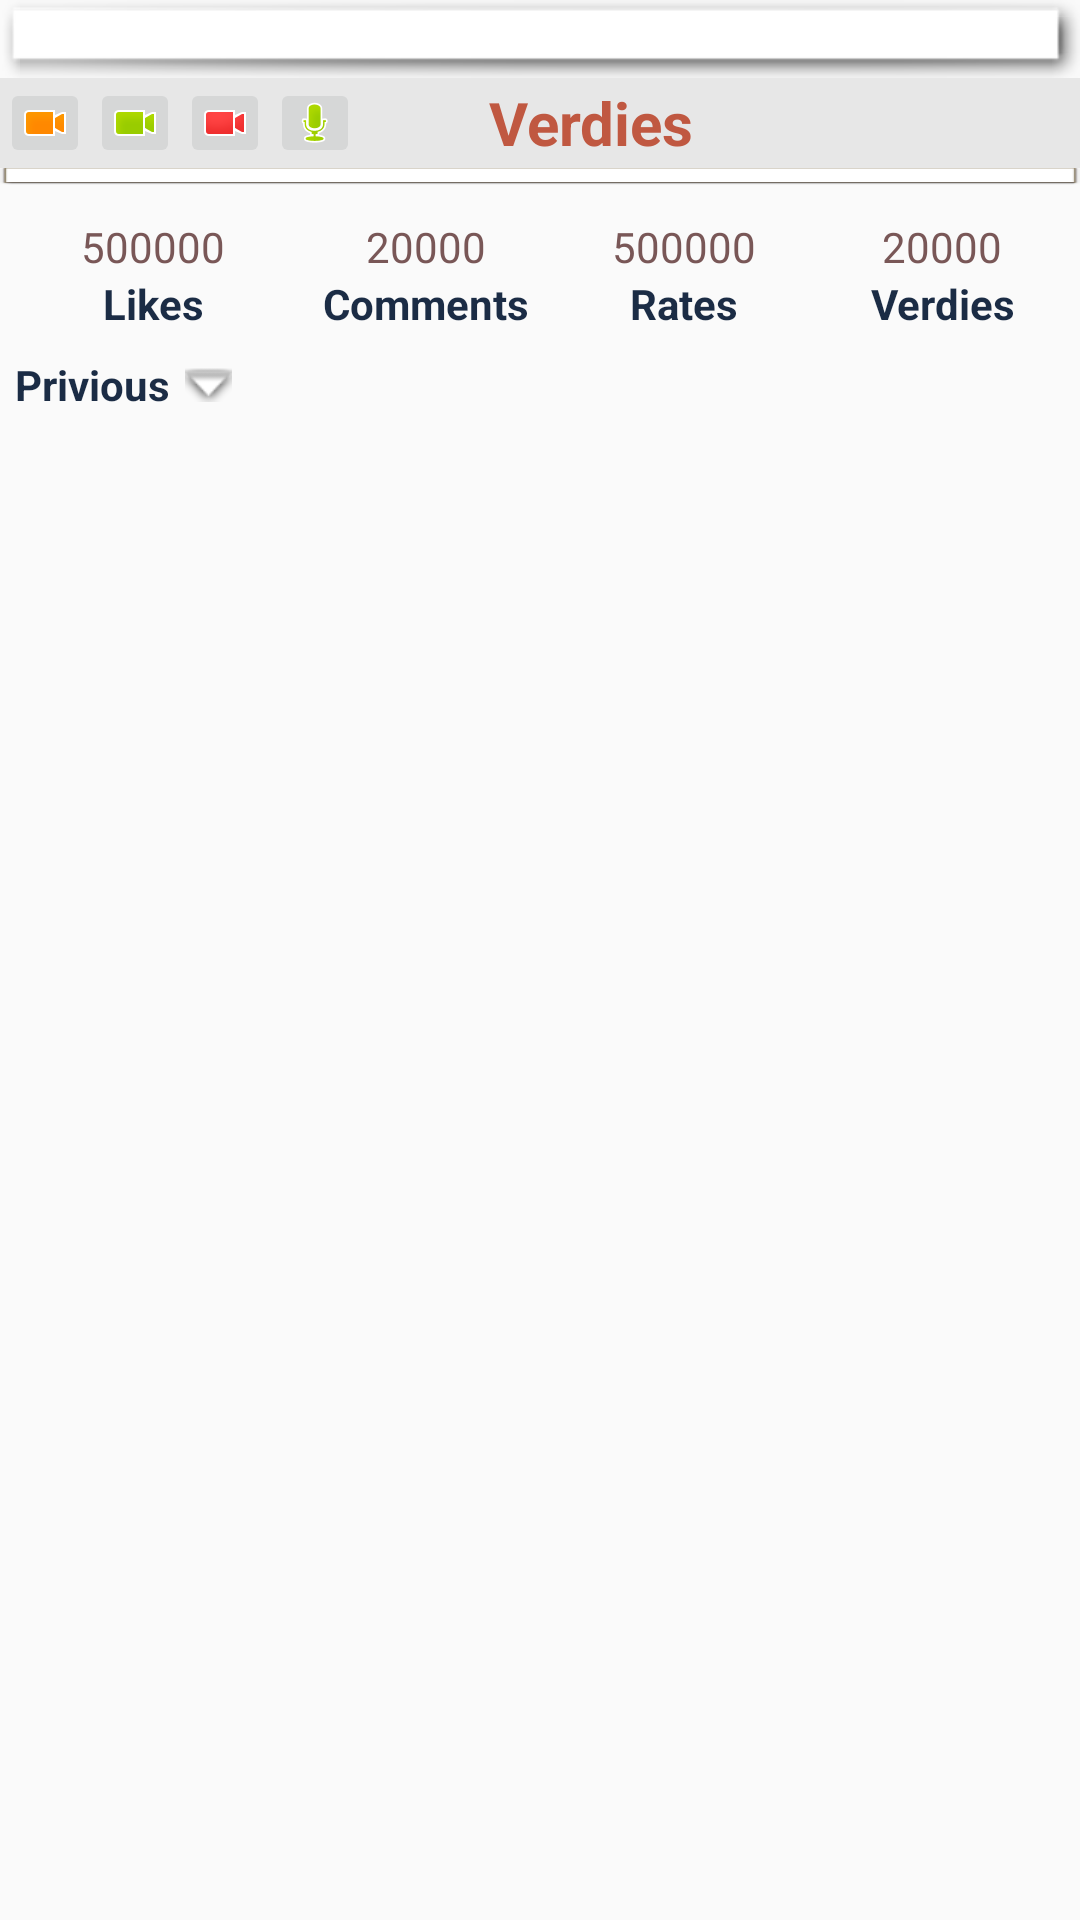

Where icons sit on this 1080*1920 app screen, as (x1, y1, x2, y2):
arrow down float: (185, 369, 232, 401)
presence audio online: (303, 104, 326, 141)
presence video away: (26, 112, 64, 134)
presence video busy: (206, 112, 244, 134)
presence video online: (116, 112, 154, 134)
